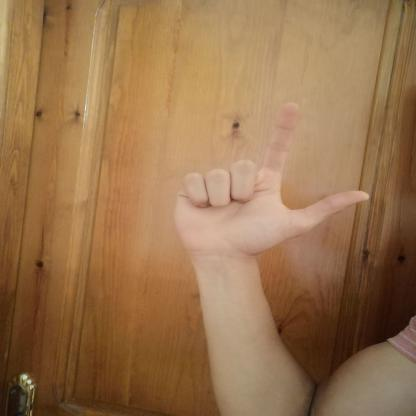LAAM: (156, 94, 383, 269)
